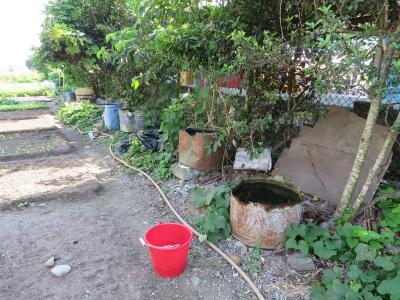bottle: (222, 178, 305, 253), (143, 223, 192, 278), (178, 123, 227, 171), (120, 106, 145, 131), (102, 101, 120, 129)
